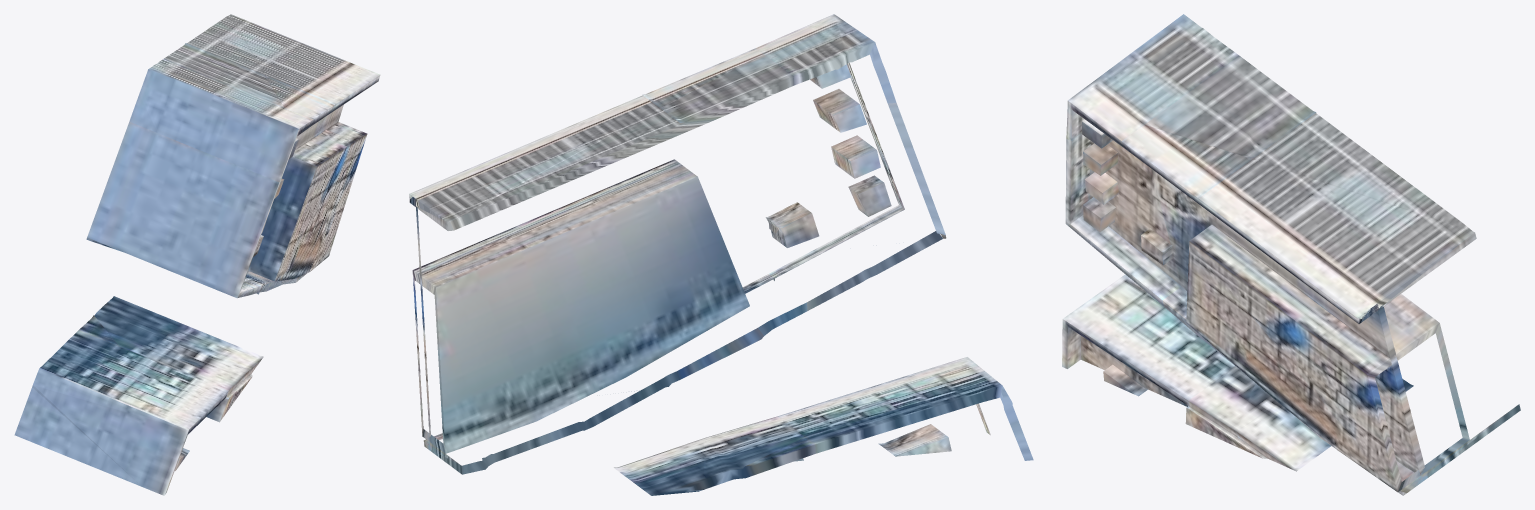
File: congresso_tile_66.glb
The picture shows the model from 3 angles, left to right: view 1: azimuth 30°, elevation 25°; view 2: azimuth 150°, elevation 25°; view 3: azimuth 270°, elevation 25°; orthographic projection. The views are drawn at different scales.
Size of the model in its own units: 30.7 by 24.01 by 26.66.
Materials: 1 (1 with a texture image).
